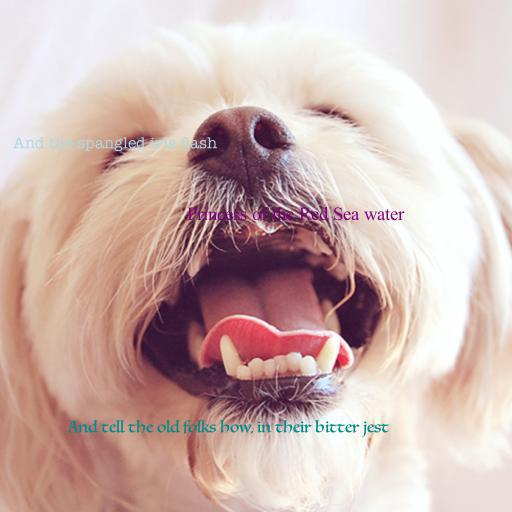American Typewriter: (13, 137, 217, 152)
Luminari: (67, 420, 389, 438)
Times New Roman: (186, 207, 404, 221)
